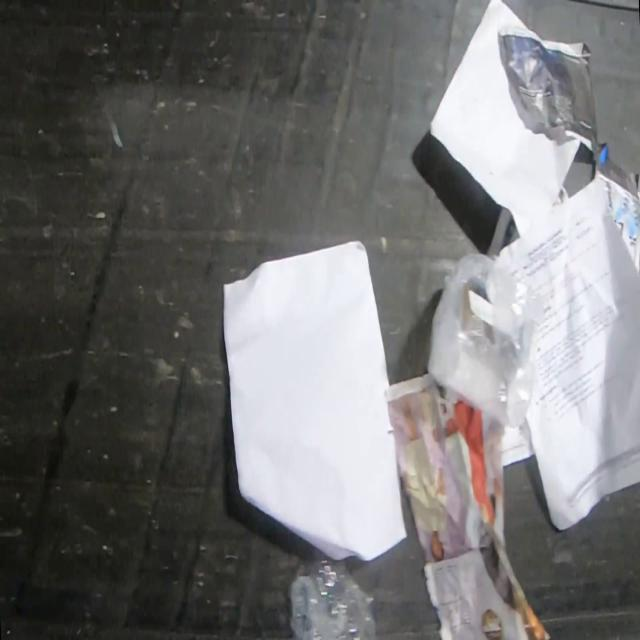rigid_plastic: (290, 554, 376, 640)
soft_plastic: (425, 250, 546, 432)
